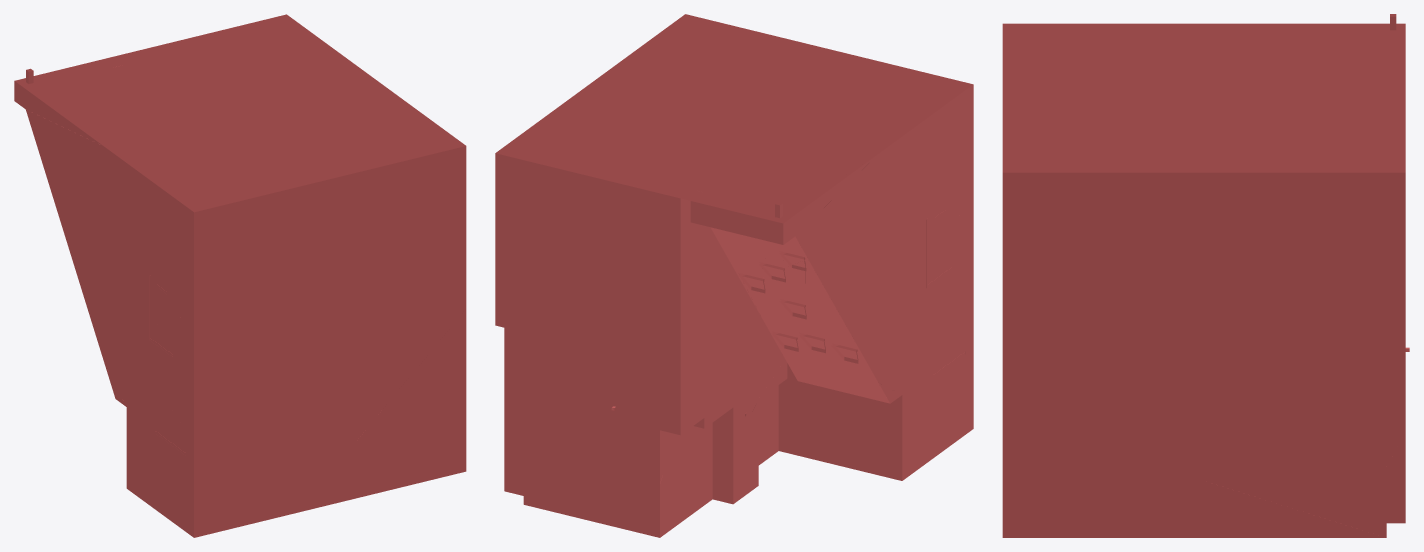
Rendered from horisoko.glb.
The picture shows the model from 3 angles, left to right: view 1: azimuth 30°, elevation 25°; view 2: azimuth 150°, elevation 25°; view 3: azimuth 270°, elevation 25°; orthographic projection. The views are drawn at different scales.
Visible parts, largest first — view 1: horisoko_col; view 2: horisoko_col; view 3: horisoko_col.
Part boxes in pixels (bbox=[...]): horisoko_col: bbox=[14, 14, 466, 537]; horisoko_col: bbox=[495, 14, 973, 537]; horisoko_col: bbox=[1002, 14, 1409, 537].
Size of the model in its own units: 11.21 by 13.28 by 12.93.
